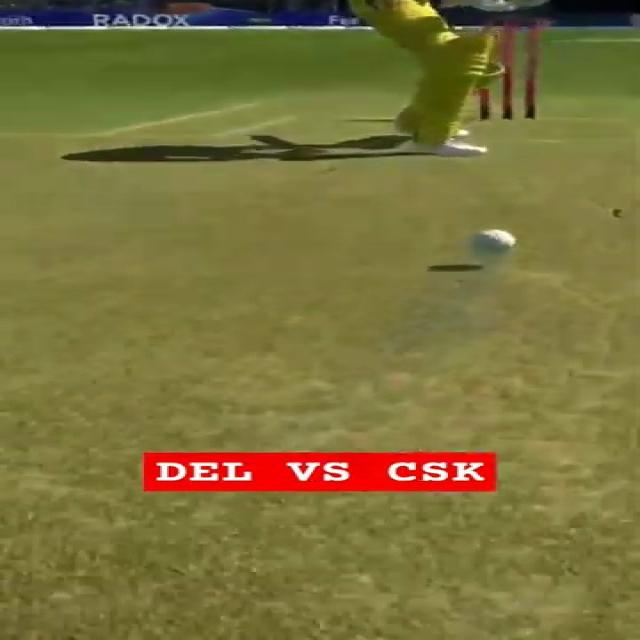ball: (468, 228, 514, 254)
